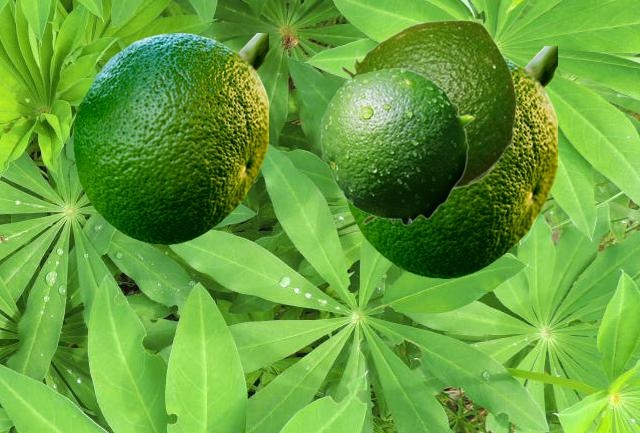dalandan: (344, 46, 556, 277), (73, 33, 267, 243), (340, 19, 516, 224), (320, 67, 473, 225)
